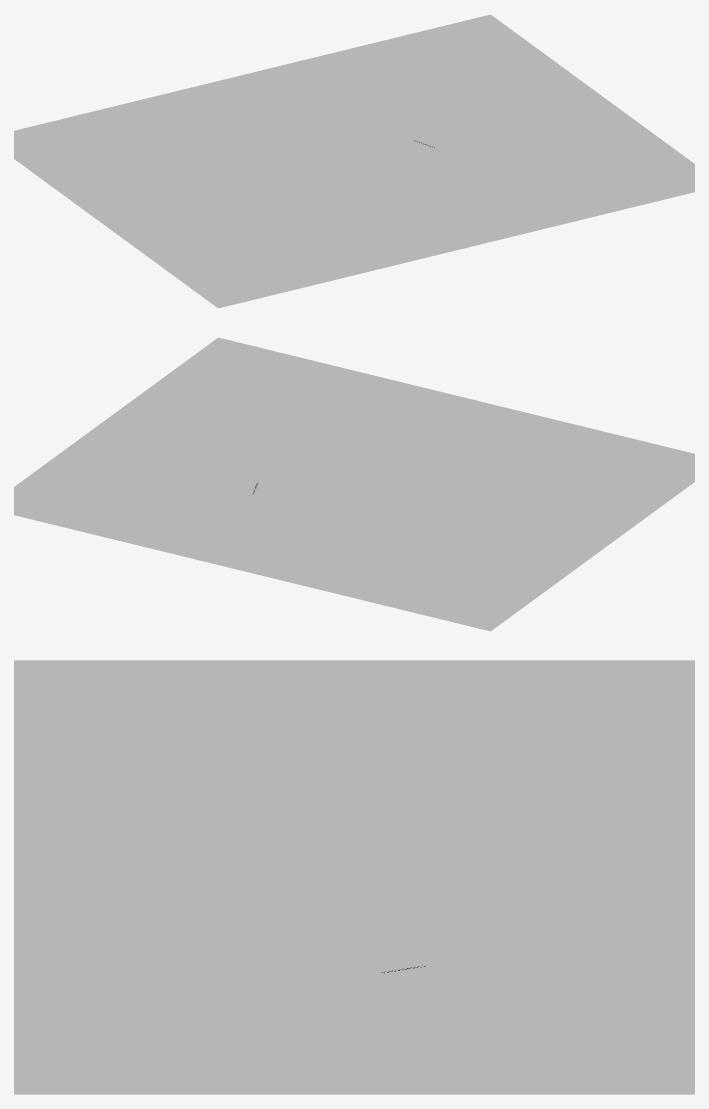
File: 2022_june_pro_cw.dae
3 views of the same model, one above another, from view 1: azimuth 30°, elevation 25°; view 2: azimuth 150°, elevation 25°; view 3: azimuth 270°, elevation 25° (orthographic). The views are drawn at different scales.
Parts seen in each view (by area): view 1: field, wall, road, il, ol, cl; view 2: field, wall, road, il, ol, cl; view 3: field, wall, road, ol, il, cl.
Boxes of the visible parts, <box> form: field: <box>43,42,665,280</box>; wall: <box>14,14,694,308</box>; road: <box>119,110,626,266</box>; il: <box>147,122,597,254</box>; ol: <box>116,109,628,267</box>; cl: <box>133,116,612,260</box>; field: <box>43,365,665,603</box>; wall: <box>14,337,694,631</box>; road: <box>143,396,608,590</box>; il: <box>171,408,580,578</box>; ol: <box>140,395,611,590</box>; cl: <box>156,401,595,584</box>; field: <box>14,707,694,1047</box>; wall: <box>14,660,694,1094</box>; road: <box>57,725,651,1047</box>; ol: <box>53,723,655,1047</box>; il: <box>104,745,604,1047</box>; cl: <box>80,735,628,1047</box>.
Bounding box in the file's own units: 17.73 × 13.16 × 1.
